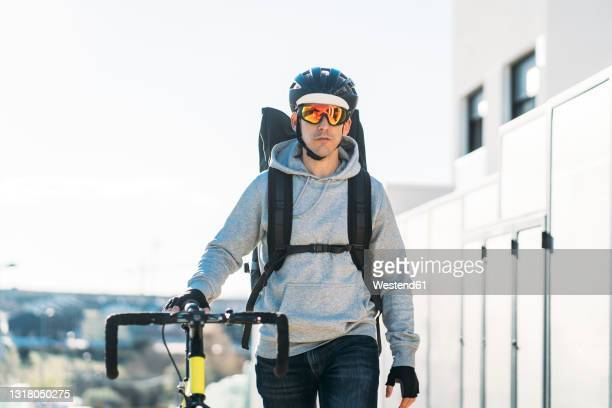helmet: (289, 66, 359, 157)
